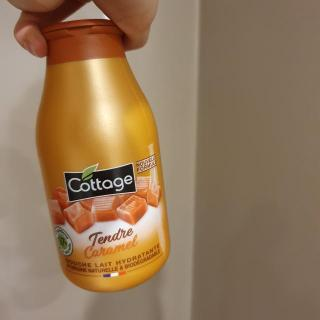Plastic-bottle: (33, 19, 177, 297)
